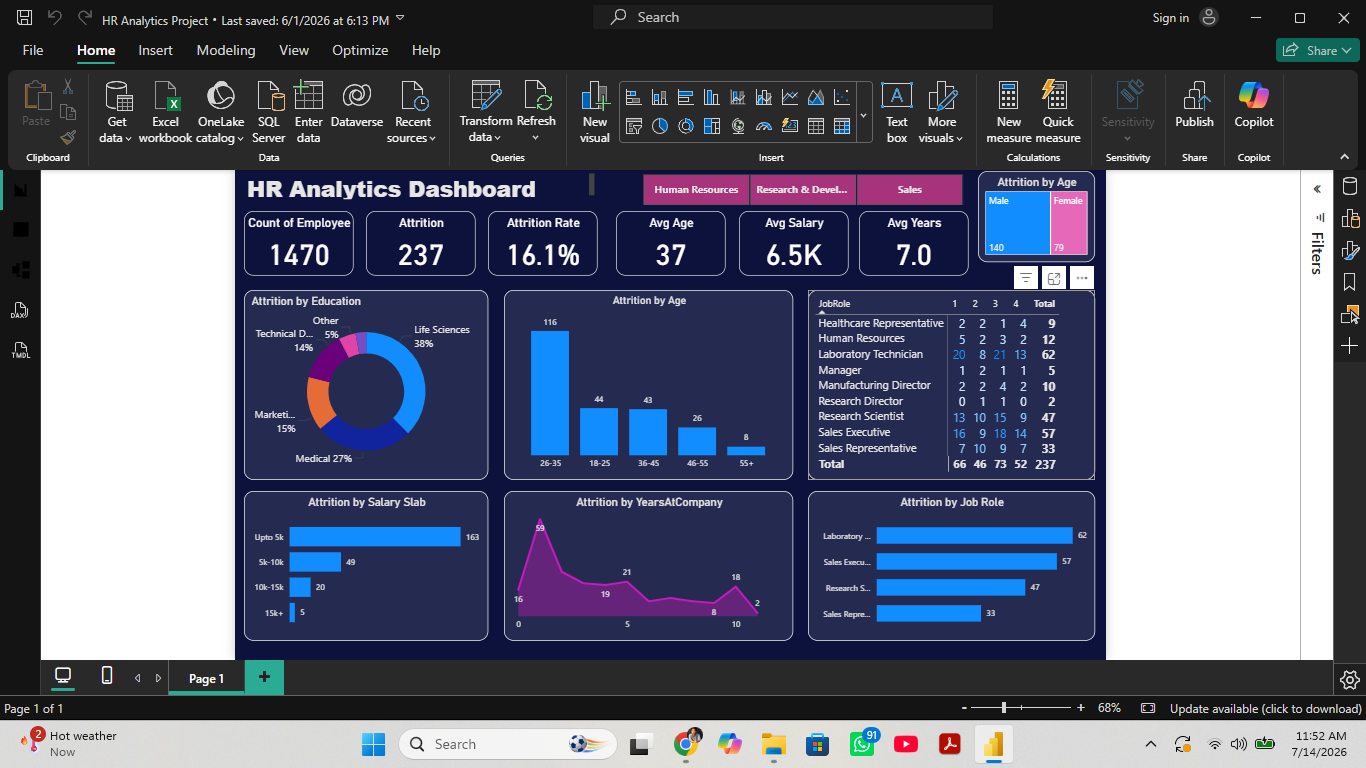

What the dashboard file says about the page in this screenshot:
{"tool":"powerbi","page":{"name":"Page 1","canvas":[1280,720],"ordinal":0},"visuals":[{"type":"card","title":"Count of Employee","fields":{"Values":["CountNonNull(HR_Analytics.EmpID)"]},"box":[12.5,60.8,160.9,94.7],"z":0},{"type":"card","title":"Attrition","fields":{"Values":["Sum(HR_Analytics.AttritionCount)"]},"box":[193.1,60.8,160.9,94.7],"z":1000},{"type":"card","title":"Attrition Rate","fields":{"Values":["HR_Analytics.AttritionRate"]},"box":[371.8,60.8,160.9,94.7],"z":2000},{"type":"card","title":"Avg Age","fields":{"Values":["Avg(HR_Analytics.Age)"]},"box":[559.6,60.8,160.9,94.7],"z":3000},{"type":"card","title":"Avg Salary","fields":{"Values":["Avg(HR_Analytics.MonthlyIncome)"]},"box":[740.1,60.8,160.9,94.7],"z":4000},{"type":"card","title":"Avg Years","fields":{"Values":["Avg(HR_Analytics.YearsAtCompany)"]},"box":[917.1,60.8,160.9,94.7],"z":5000},{"type":"donutChart","title":"Attrition by Education","fields":{"Category":["HR_Analytics.EducationField"],"Y":["Sum(HR_Analytics.AttritionCount)"]},"box":[12.5,177,359.3,278.9],"z":6000},{"type":"columnChart","title":"Attrition by Age","fields":{"Category":["HR_Analytics.AgeGroup"],"Y":["Sum(HR_Analytics.AttritionCount)"]},"box":[395.1,177,425.5,278.9],"z":7000},{"type":"pivotTable","fields":{"Columns":["HR_Analytics.JobSatisfaction"],"Rows":["HR_Analytics.JobRole"],"Values":["Sum(HR_Analytics.AttritionCount)"]},"box":[842,177,421.9,278.9],"z":7001},{"type":"barChart","title":"Attrition by Salary Slab","fields":{"Category":["HR_Analytics.SalarySlab"],"Y":["Sum(HR_Analytics.AttritionCount)"]},"box":[12.5,472,359.3,219.9],"z":7002},{"type":"barChart","title":"Attrition by Job Role","fields":{"Category":["HR_Analytics.JobRole"],"Y":["Sum(HR_Analytics.AttritionCount)"]},"box":[842,472,421.9,219.9],"z":7003},{"type":"areaChart","title":"Attrition by YearsAtCompany","fields":{"Category":["HR_Analytics.YearsAtCompany"],"Y":["Sum(HR_Analytics.AttritionCount)"]},"box":[395.1,472,425.5,219.9],"z":7004},{"type":"treemap","title":"Attrition by Age","fields":{"Group":["HR_Analytics.Gender"],"Values":["Sum(HR_Analytics.AttritionCount)"]},"box":[1092.3,1.8,171.6,134.1],"z":7005},{"type":"slicer","fields":{"Values":["HR_Analytics.Department"]},"box":[573.9,0,518.4,60.8],"z":7006},{"type":"textbox","box":[12.5,0,520.2,48.3],"z":7007}]}

Visuals, with their boxes on the page's 1280x720 design canvas (x1, y1, x2, y2). These are canvas units, not pixel positions in the 1366x768 screenshot, which may show the page scaled, cropped or inside an application window:
"Count of Employee" card: left=12, top=61, right=173, bottom=156
"Attrition" card: left=193, top=61, right=354, bottom=156
"Attrition Rate" card: left=372, top=61, right=533, bottom=156
"Avg Age" card: left=560, top=61, right=720, bottom=156
"Avg Salary" card: left=740, top=61, right=901, bottom=156
"Avg Years" card: left=917, top=61, right=1078, bottom=156
"Attrition by Education" donutChart: left=12, top=177, right=372, bottom=456
"Attrition by Age" columnChart: left=395, top=177, right=821, bottom=456
pivotTable - HR_Analytics.JobSatisfaction x HR_Analytics.JobRole: left=842, top=177, right=1264, bottom=456
"Attrition by Salary Slab" barChart: left=12, top=472, right=372, bottom=692
"Attrition by Job Role" barChart: left=842, top=472, right=1264, bottom=692
"Attrition by YearsAtCompany" areaChart: left=395, top=472, right=821, bottom=692
"Attrition by Age" treemap: left=1092, top=2, right=1264, bottom=136
slicer - HR_Analytics.Department: left=574, top=0, right=1092, bottom=61
textbox: left=12, top=0, right=533, bottom=48
